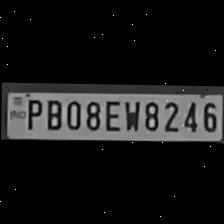0: (62, 96, 82, 129)
2: (160, 97, 180, 130)
4: (178, 99, 198, 130)
6: (198, 98, 218, 132)
8: (139, 97, 159, 130), (82, 96, 100, 129)
B: (42, 96, 62, 130)
E: (100, 97, 120, 131)
P: (21, 96, 41, 130)
W: (120, 98, 140, 132)
